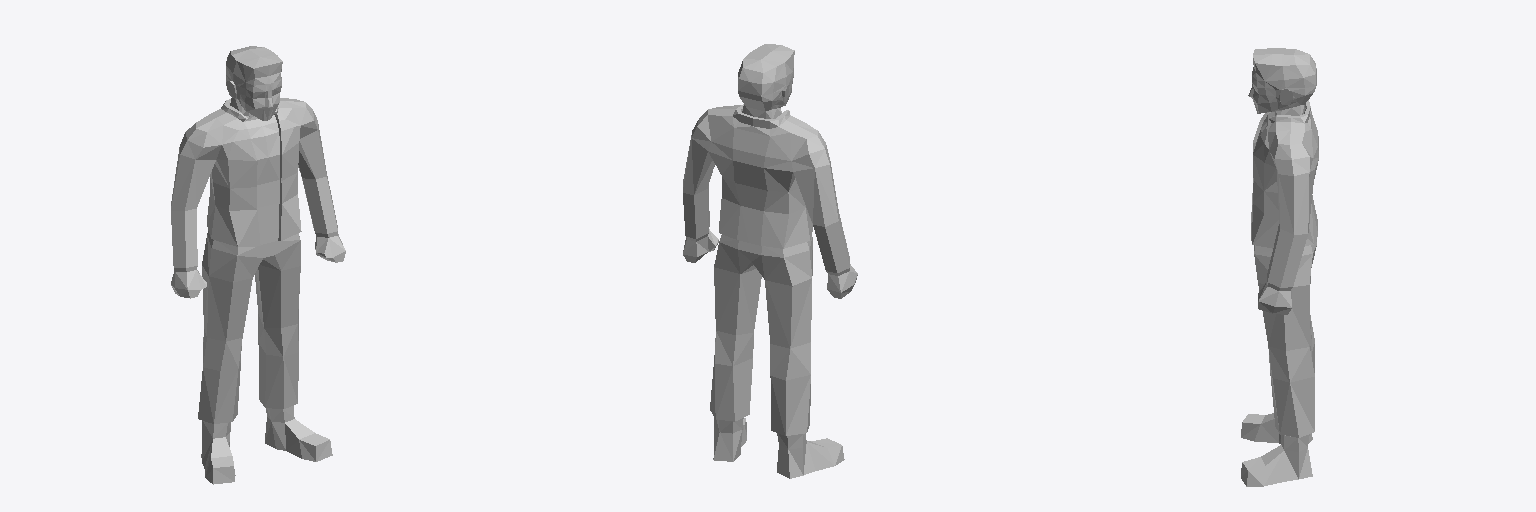
Rendered from cha_m_citizen.obj.
3 renders of one model, left to right at view 1: azimuth 30°, elevation 25°; view 2: azimuth 150°, elevation 25°; view 3: azimuth 270°, elevation 25°, orthographic.
Visible parts, largest first — view 1: gh_mockup-male1; view 2: gh_mockup-male1; view 3: gh_mockup-male1.
Part boxes in pixels (left/top/right/bottom): gh_mockup-male1: left=171, top=46, right=345, bottom=484; gh_mockup-male1: left=683, top=44, right=857, bottom=478; gh_mockup-male1: left=1241, top=48, right=1318, bottom=486.
Size of the model in its own units: 0.2986 by 0.6865 by 0.1213.